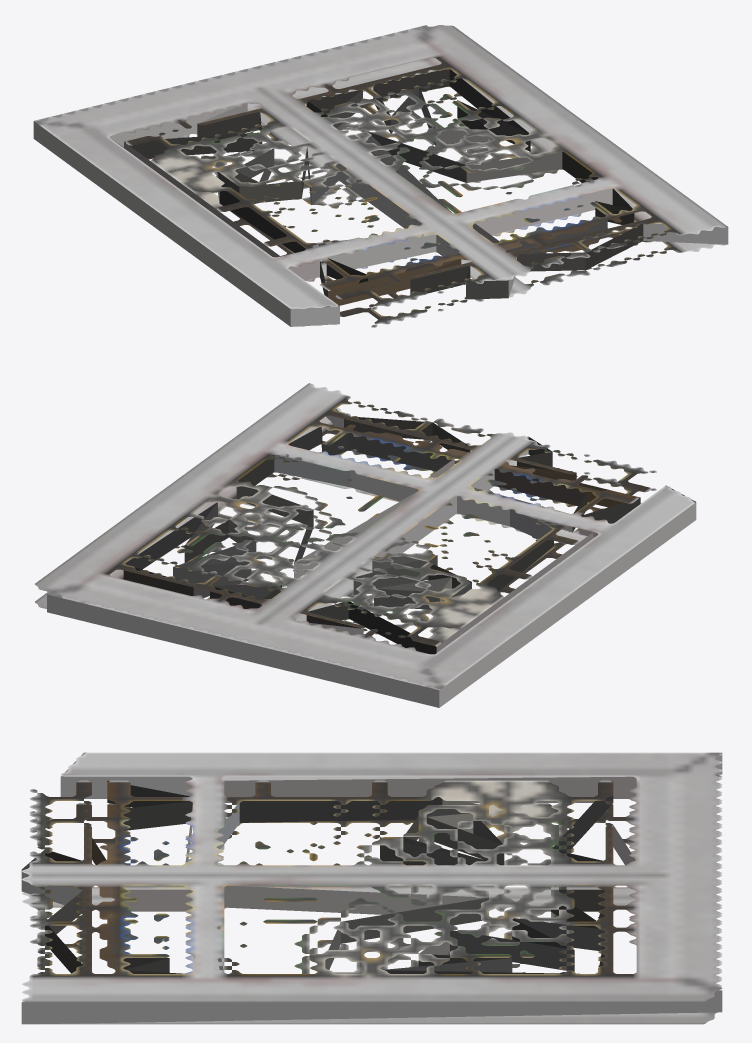
The model's file is pz_native_location_community_church_small_01_123_frame.obj.
The picture shows the model from 3 angles, top to bottom: view 1: azimuth 30°, elevation 25°; view 2: azimuth 150°, elevation 25°; view 3: azimuth 270°, elevation 25°; orthographic projection. The views are drawn at different scales.
Parts seen in each view (by area): view 1: pz_native_location_community_church_small_01_123_frame; view 2: pz_native_location_community_church_small_01_123_frame; view 3: pz_native_location_community_church_small_01_123_frame.
Part boxes in pixels (bbox=[...]): pz_native_location_community_church_small_01_123_frame: bbox=[33, 25, 728, 327]; pz_native_location_community_church_small_01_123_frame: bbox=[35, 383, 696, 707]; pz_native_location_community_church_small_01_123_frame: bbox=[21, 752, 722, 1024].
Bounding box in the file's own units: 1.02 × 0.04 × 1.19.
1 material, 1 textured.
